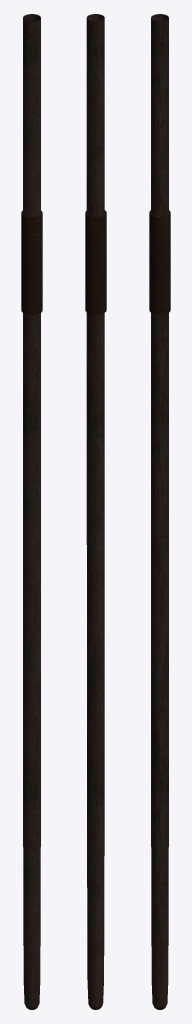
Rendered from wm_isengard_1h_pike_b01_handle.fbx.
3 renders of one model, left to right at view 1: azimuth 90°, elevation 25°; view 2: azimuth 210°, elevation 25°; view 3: azimuth 270°, elevation 25°, orthographic.
Visible parts, largest first — view 1: wm_isengard_1h_pike_b01_handle; view 2: wm_isengard_1h_pike_b01_handle; view 3: wm_isengard_1h_pike_b01_handle.
Part boxes in pixels (x1=…): wm_isengard_1h_pike_b01_handle: x1=21, y1=14, x2=42, y2=1009; wm_isengard_1h_pike_b01_handle: x1=85, y1=14, x2=106, y2=1009; wm_isengard_1h_pike_b01_handle: x1=149, y1=14, x2=170, y2=1009.
Bounding box in the file's own units: 0.0448 × 0.0448 × 2.29.
1 material, 1 textured.
